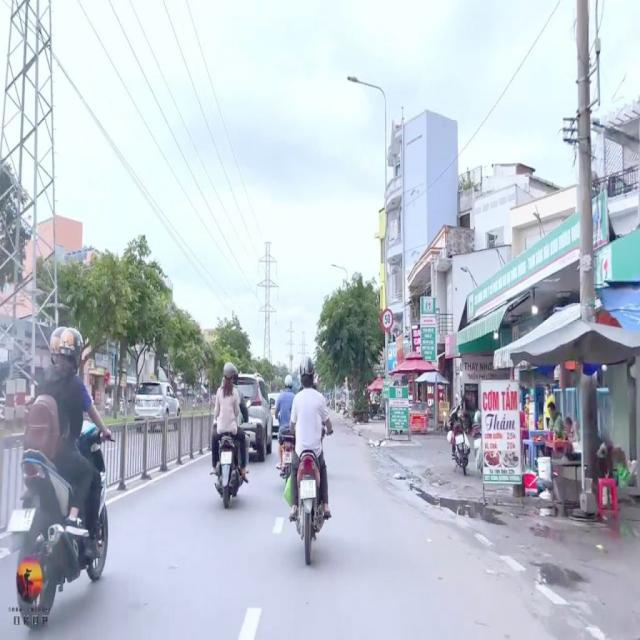toc_do_toi_da_50: (381, 309, 393, 332)
